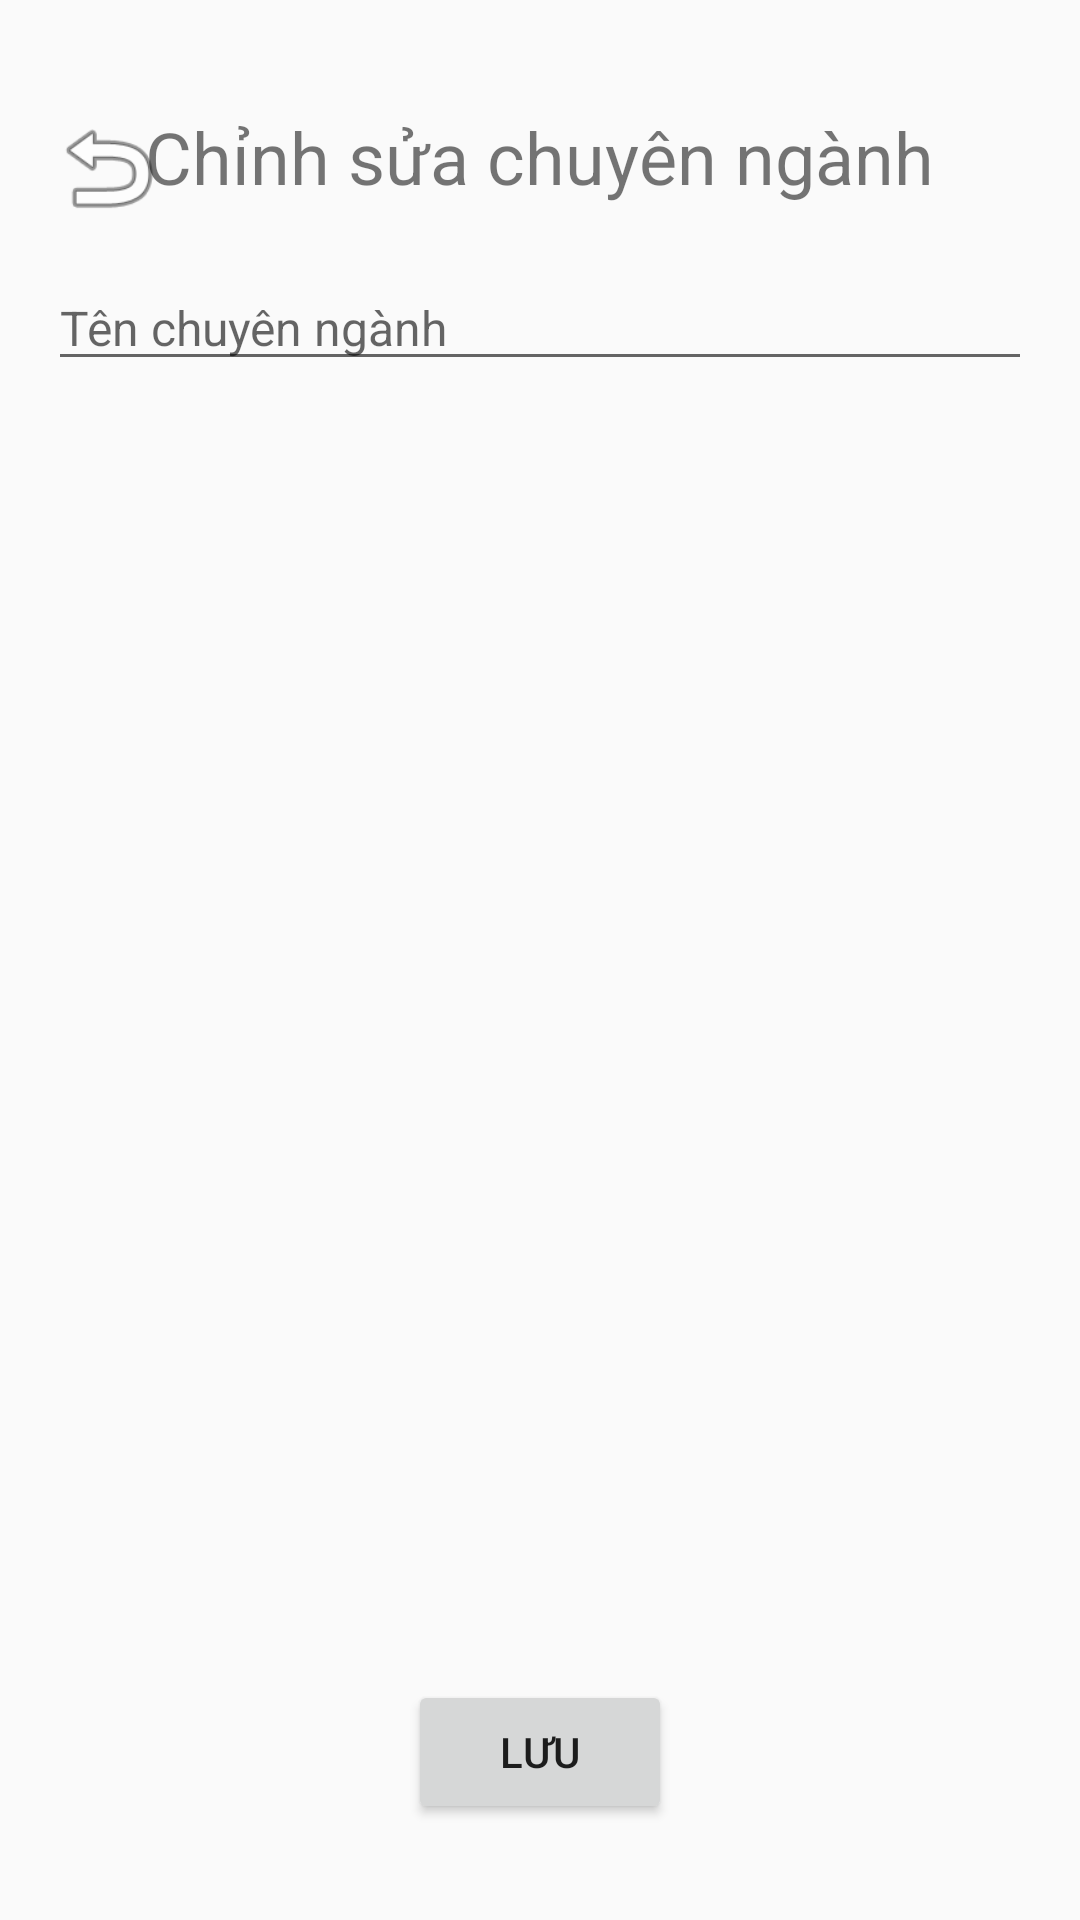

Icon bounding boxes for this 1080w x 1920h phone screenshot, format (left=x1, top=y1, right=x2, bottom=y2):
revert: (left=66, top=130, right=168, bottom=208)
